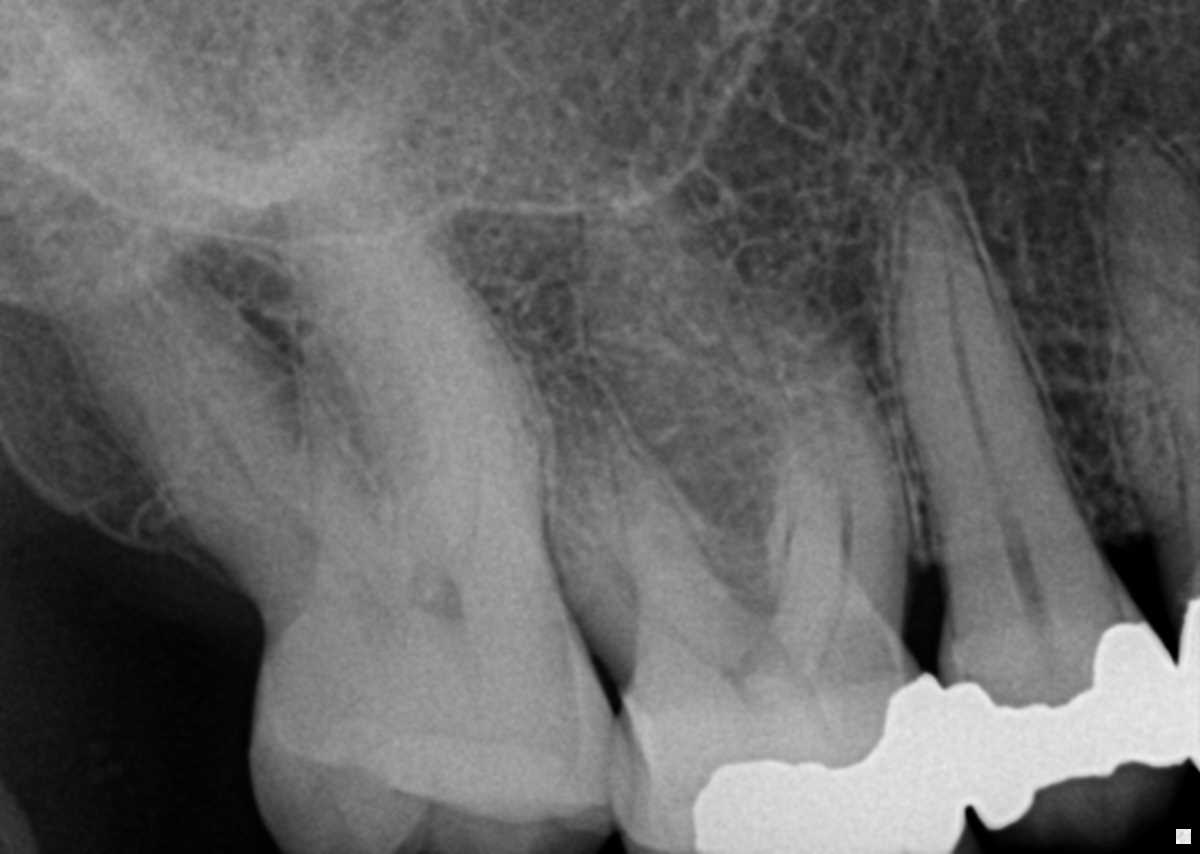Distal Canal: (190, 382, 356, 590), (580, 493, 692, 645)
Distal Root: (32, 194, 362, 565), (531, 365, 740, 668)
Main Canal: (947, 253, 1027, 554)
Main Root: (893, 173, 1089, 556), (1101, 123, 1200, 521)
Mesial Canal: (794, 350, 851, 583), (438, 327, 483, 574)
Mesial Root: (297, 225, 540, 541), (733, 283, 914, 591)
Palatal Root: (576, 168, 879, 702), (286, 112, 536, 542)
